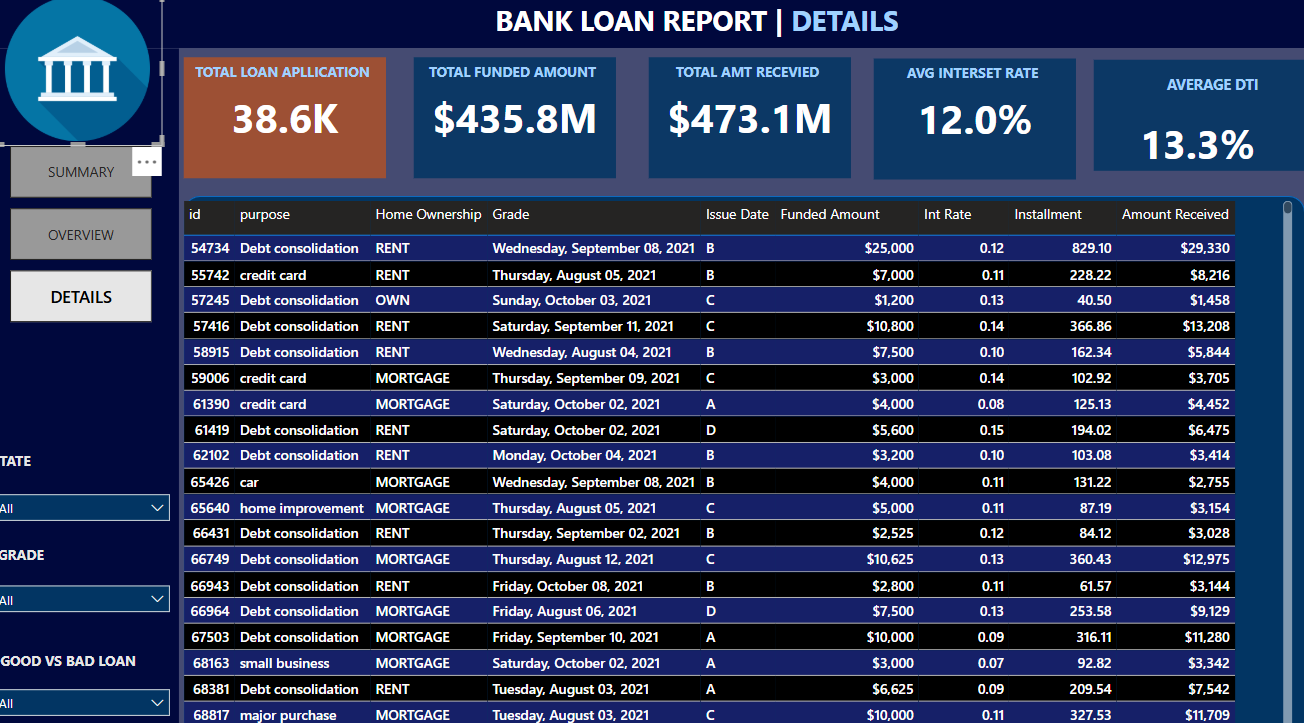

This screenshot's page, from the dashboard's own definition file:
{"tool":"powerbi","page":{"name":"DETAILS","canvas":[1280,720],"ordinal":2},"visuals":[{"type":"shape","box":[0,0,1280.3,55],"z":0},{"type":"shape","box":[196.6,63.9,195.4,117],"z":0,"group":"g1"},{"type":"shape","box":[418.6,63.9,195.4,117],"z":0,"group":"g2"},{"type":"shape","box":[645.4,63.9,195.4,117],"z":0,"group":"g3"},{"type":"shape","box":[862.6,65.1,195.4,117],"z":0,"group":"g4"},{"type":"shape","box":[1074.9,66.4,203.9,107.4],"z":0,"group":"g5"},{"type":"shape","box":[0,55.5,192,664.7],"z":1000},{"type":"card","fields":{"Values":["financial_loan (1).TOTAL LOAN APPLICATION"]},"box":[196.6,95.3,195.4,53.1],"z":1000,"group":"g1"},{"type":"card","fields":{"Values":["financial_loan (1).TOTAL FUNDED AMOUNT"]},"box":[418.6,95.3,195.4,53.1],"z":1000,"group":"g2"},{"type":"card","fields":{"Values":["financial_loan (1).TOTAL AMOUNT RECEIVED"]},"box":[645.4,95.3,195.4,53.1],"z":1000,"group":"g3"},{"type":"card","fields":{"Values":["financial_loan (1).AVG INTERSET RATE"]},"box":[862.6,96.5,195.4,53.1],"z":1000,"group":"g4"},{"type":"card","fields":{"Values":["financial_loan (1).AVG DTI"]},"box":[1078.5,111.8,193,70],"z":1000,"group":"g5"},{"type":"textbox","box":[413.8,4.8,556.2,47.1],"z":2000},{"type":"textbox","box":[191.8,63.9,200.3,31.4],"z":2000,"group":"g1"},{"type":"textbox","box":[413.8,63.9,200.3,31.4],"z":2000,"group":"g2"},{"type":"textbox","box":[640.6,63.9,200.3,31.4],"z":2000,"group":"g3"},{"type":"textbox","box":[857.8,65.1,200.3,31.4],"z":2000,"group":"g4"},{"type":"textbox","box":[1098.9,75.8,181.1,37.7],"z":2000,"group":"g5"},{"type":"textbox","box":[790.2,225.6,308.8,9.7],"z":2000,"group":"g6"},{"type":"textbox","box":[2.9,438.7,66.4,35],"z":2000,"group":"g7"},{"type":"textbox","box":[12.5,529.1,66.4,33.8],"z":2000,"group":"g8"},{"type":"textbox","box":[10.6,632.7,165.3,37.4],"z":2000,"group":"g9"},{"type":"group","id":"g1","title":"Group 1","box":[191.8,63.9,200.3,117],"z":3000},{"type":"group","id":"g2","title":"Group 1","box":[413.8,63.9,200.3,117],"z":4000},{"type":"group","id":"g3","title":"Group 1","box":[640.6,63.9,200.3,117],"z":5000},{"type":"shape","box":[196.6,197.9,1082.2,522.4],"z":6000},{"type":"group","id":"g4","title":"Group 1","box":[857.8,65.1,200.3,117],"z":7000},{"type":"group","id":"g5","title":"Group 1","box":[1074.9,66.4,205.1,115.8],"z":8000},{"type":"group","id":"g6","title":"Group 1","box":[790.2,225.6,308.8,9.7],"z":9000},{"type":"slicer","fields":{"Values":["financial_loan (1).address_state"]},"box":[2.9,474.9,190.6,51.9],"z":10000},{"type":"group","id":"g7","title":"Group 1","box":[2.9,438.7,66.4,35],"z":11000},{"type":"slicer","fields":{"Values":["financial_loan (1).grade"]},"box":[2.9,562.9,190.6,55.5],"z":12000},{"type":"group","id":"g8","title":"Group 1","box":[12.5,529.1,66.4,33.8],"z":13000},{"type":"slicer","fields":{"Values":["financial_loan (1).good vs bad loan"]},"box":[2.9,663.1,190.6,51.9],"z":14000},{"type":"group","id":"g9","title":"Group 1","box":[10.6,632.7,165.3,37.4],"z":15000},{"type":"tableEx","fields":{"Values":["financial_loan (1).id","financial_loan (1).purpose","financial_loan (1).home_ownership","financial_loan (1).issue_date","financial_loan (1).grade","financial_loan (1).TOTAL FUNDED AMOUNT","Sum(financial_loan (1).int_rate)","Sum(financial_loan (1).installment)","financial_loan (1).TOTAL AMOUNT RECEIVED"]},"box":[190.6,197.9,1081,522.4],"z":15500},{"type":"pageNavigator","box":[29,149.6,137.5,172.5],"z":17001},{"type":"image","box":[12.1,0,164.1,149.6],"z":17002}]}

Visuals, with their boxes in screenshot pixels (x1, y1, x2, y2), scaled from the page's 1280x720 canvas onto the 1304x723 screenshot:
shape: <bbox>0, 0, 1303, 55</bbox>
shape: <bbox>200, 64, 399, 182</bbox>
shape: <bbox>426, 64, 626, 182</bbox>
shape: <bbox>658, 64, 857, 182</bbox>
shape: <bbox>879, 65, 1078, 183</bbox>
shape: <bbox>1095, 67, 1303, 175</bbox>
shape: <bbox>0, 56, 196, 722</bbox>
card - financial_loan (1).TOTAL LOAN APPLICATION: <bbox>200, 96, 399, 149</bbox>
card - financial_loan (1).TOTAL FUNDED AMOUNT: <bbox>426, 96, 626, 149</bbox>
card - financial_loan (1).TOTAL AMOUNT RECEIVED: <bbox>658, 96, 857, 149</bbox>
card - financial_loan (1).AVG INTERSET RATE: <bbox>879, 97, 1078, 150</bbox>
card - financial_loan (1).AVG DTI: <bbox>1099, 112, 1295, 183</bbox>
textbox: <bbox>422, 5, 988, 52</bbox>
textbox: <bbox>195, 64, 399, 96</bbox>
textbox: <bbox>422, 64, 626, 96</bbox>
textbox: <bbox>653, 64, 857, 96</bbox>
textbox: <bbox>874, 65, 1078, 97</bbox>
textbox: <bbox>1120, 76, 1303, 114</bbox>
textbox: <bbox>805, 227, 1120, 236</bbox>
textbox: <bbox>3, 441, 71, 476</bbox>
textbox: <bbox>13, 531, 80, 565</bbox>
textbox: <bbox>11, 635, 179, 673</bbox>
"Group 1" group: <bbox>195, 64, 399, 182</bbox>
"Group 1" group: <bbox>422, 64, 626, 182</bbox>
"Group 1" group: <bbox>653, 64, 857, 182</bbox>
shape: <bbox>200, 199, 1303, 722</bbox>
"Group 1" group: <bbox>874, 65, 1078, 183</bbox>
"Group 1" group: <bbox>1095, 67, 1303, 183</bbox>
"Group 1" group: <bbox>805, 227, 1120, 236</bbox>
slicer - financial_loan (1).address_state: <bbox>3, 477, 197, 529</bbox>
"Group 1" group: <bbox>3, 441, 71, 476</bbox>
slicer - financial_loan (1).grade: <bbox>3, 565, 197, 621</bbox>
"Group 1" group: <bbox>13, 531, 80, 565</bbox>
slicer - financial_loan (1).good vs bad loan: <bbox>3, 666, 197, 718</bbox>
"Group 1" group: <bbox>11, 635, 179, 673</bbox>
tableEx - financial_loan (1).id x financial_loan (1).purpose: <bbox>194, 199, 1295, 722</bbox>
pageNavigator: <bbox>30, 150, 170, 323</bbox>
image: <bbox>12, 0, 180, 150</bbox>
